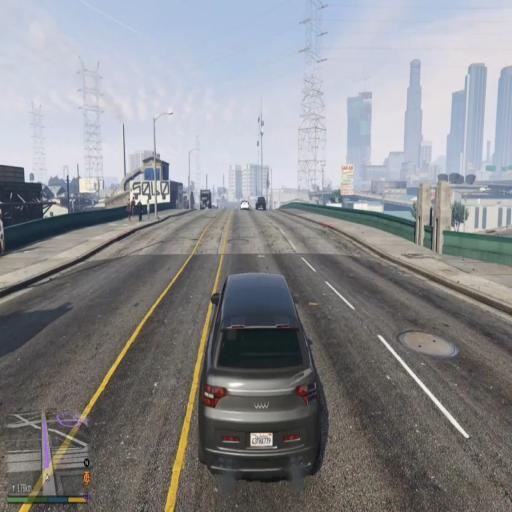Cars: (199, 270, 329, 487), (238, 196, 252, 216), (255, 192, 265, 216)
People: (145, 194, 154, 223), (136, 197, 144, 224), (127, 200, 135, 220)
Trucks: (196, 186, 216, 214)
